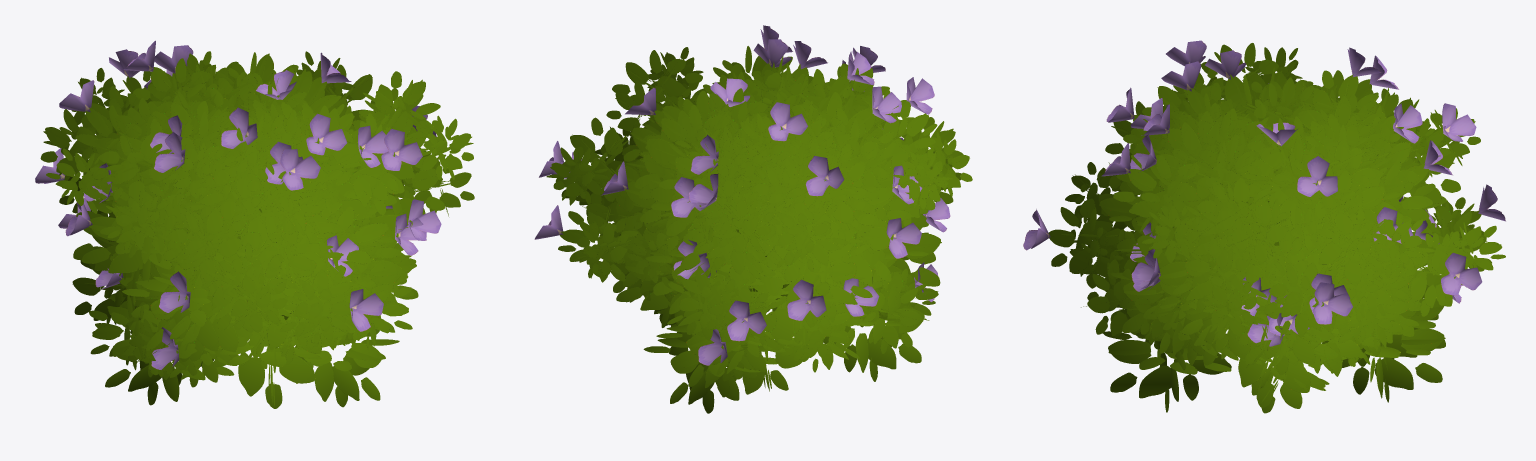
File: Bush_Common_Flowers.glb
3 renders of one model, left to right at view 1: azimuth 30°, elevation 25°; view 2: azimuth 150°, elevation 25°; view 3: azimuth 270°, elevation 25°, orthographic. The views are drawn at different scales.
Parts seen in each view (by area): view 1: Bush_Common_Flowers; view 2: Bush_Common_Flowers; view 3: Bush_Common_Flowers.
Part boxes in pixels (x1,y1,x2,y2): Bush_Common_Flowers: [35, 40, 474, 408]; Bush_Common_Flowers: [534, 25, 972, 413]; Bush_Common_Flowers: [1023, 40, 1505, 413].
Size of the model in its own units: 1.91 by 1.58 by 1.97.
Materials: 2 (2 with a texture image).
